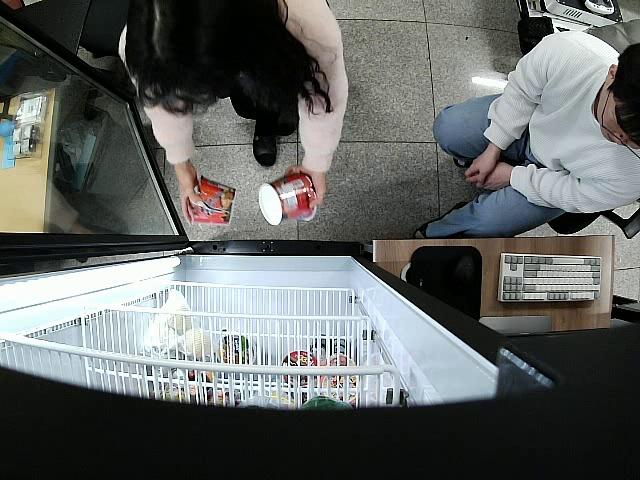00_hand: (282, 162, 328, 209), (177, 163, 206, 226)
01_shinRamen_L: (258, 167, 319, 225), (191, 176, 236, 226)
